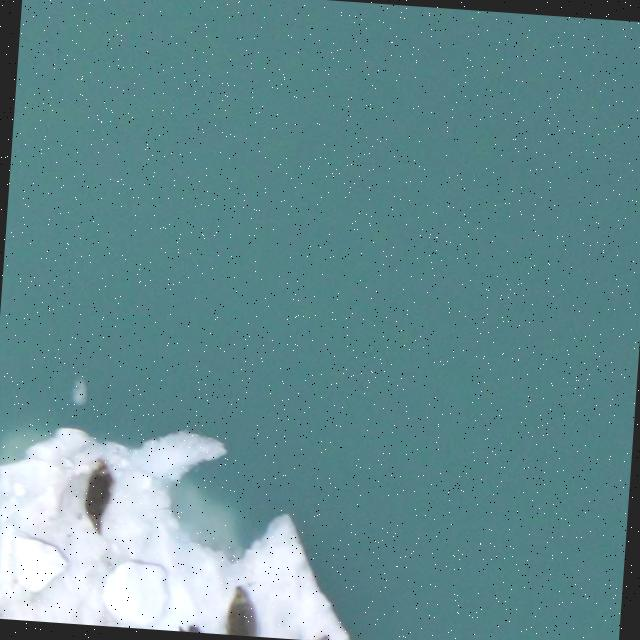seal: (84, 455, 117, 537), (226, 585, 258, 638), (180, 620, 203, 633), (317, 636, 330, 640)
